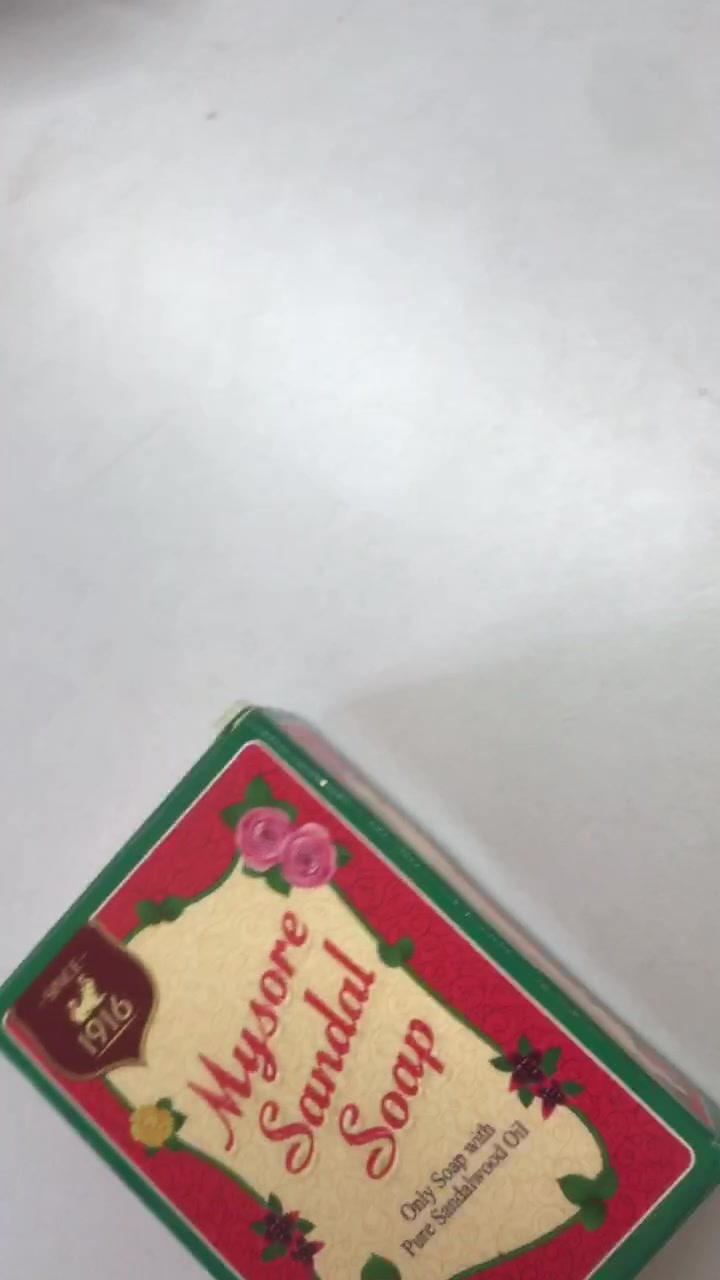mysore sandal soap: (10, 710, 720, 1273)
